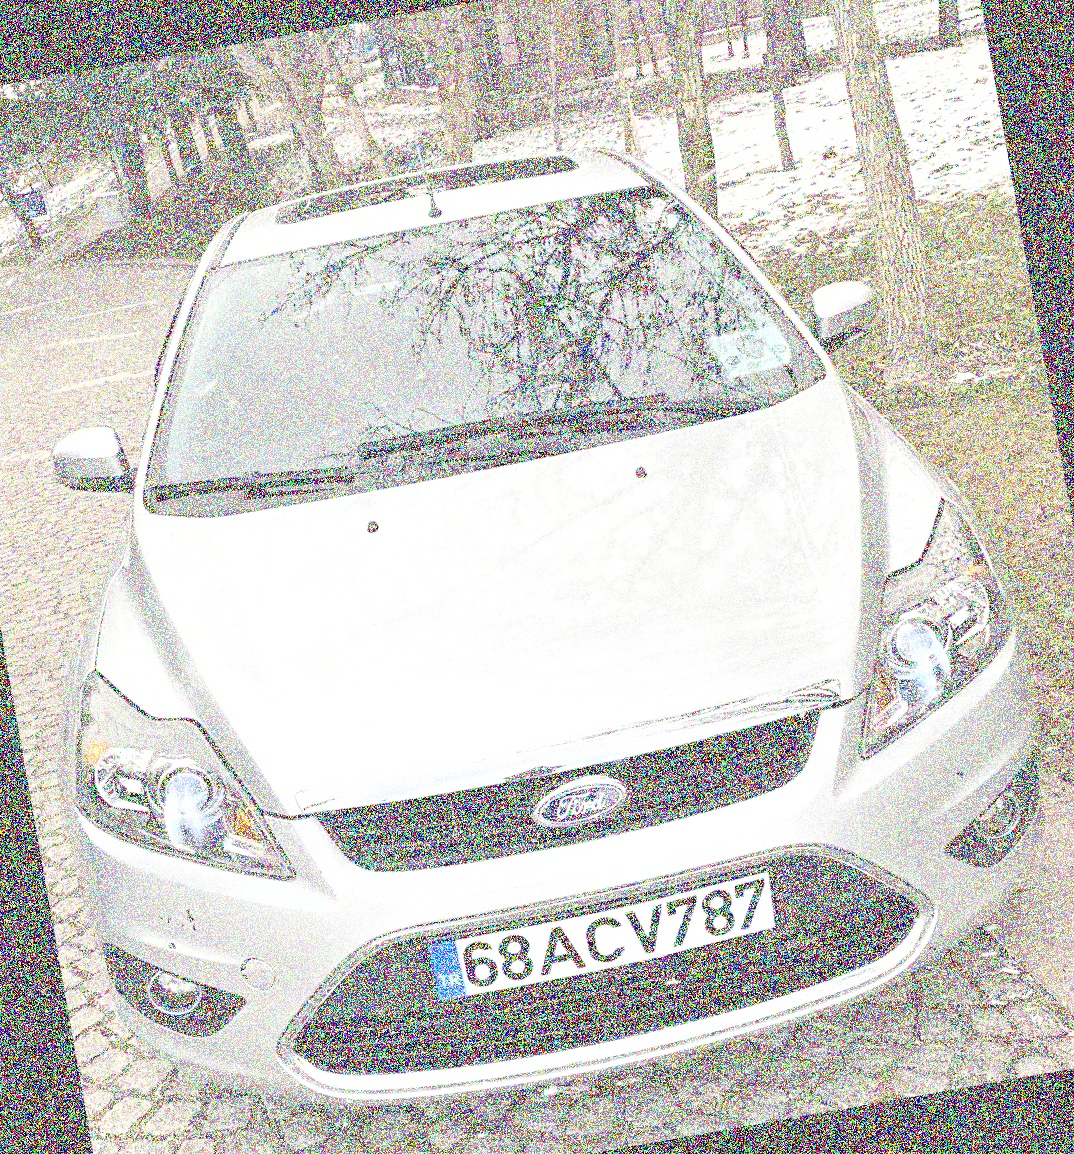plaka: (445, 874, 781, 985)
